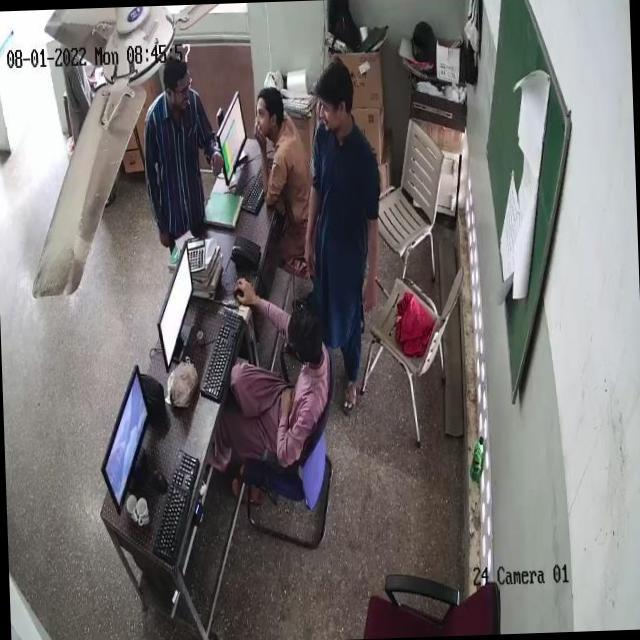person: (304, 51, 368, 406), (228, 301, 335, 466), (147, 52, 210, 217), (256, 85, 310, 271)
